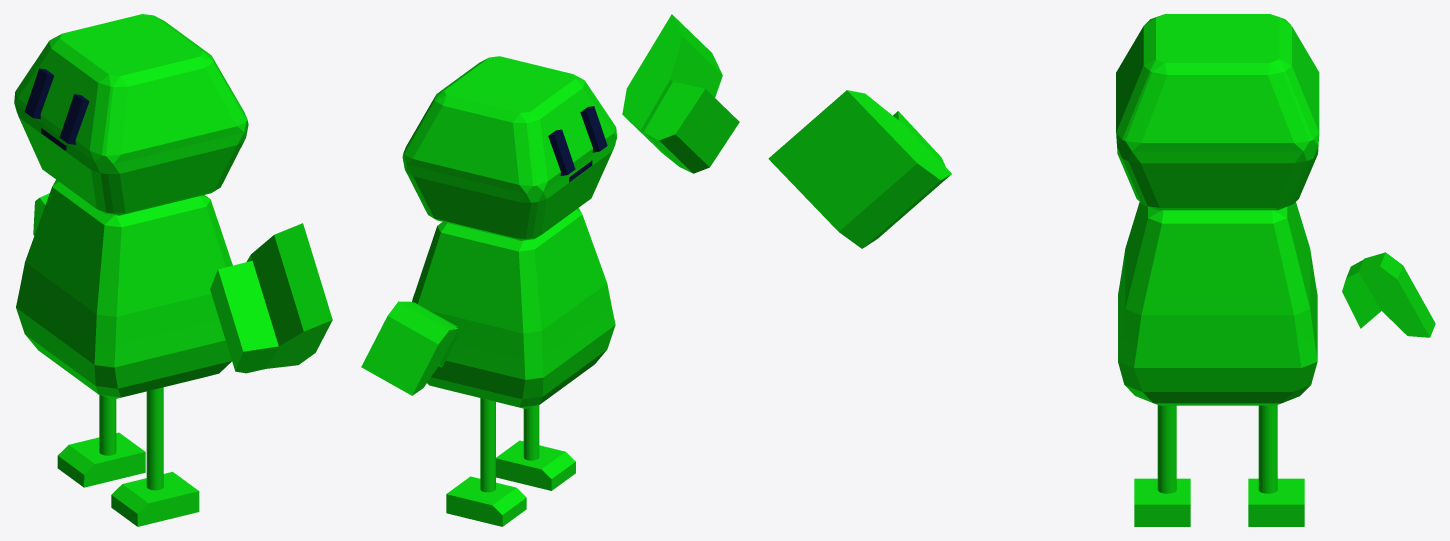
File: player_green_slap1.gltf
3 views of the same model, side by side, from view 1: azimuth 30°, elevation 25°; view 2: azimuth 150°, elevation 25°; view 3: azimuth 270°, elevation 25° (orthographic). The views are drawn at different scales.
Parts seen in each view (by area): view 1: body.005, head.005, hand right.006, foot right.005, foot left.005, leg right.005, leg left.005, Cube.020, Cube.021; view 2: body.005, head.005, hand right.006, hand left.006, foot left.005, foot right.005, leg left.005, leg right.005, Cube.020, Cube.021; view 3: body.005, head.005, hand right.006, hand left.006, foot left.005, foot right.005, leg right.005, leg left.005.
Part boxes in pixels (x1=…): body.005: x1=16, y1=179, x2=232, y2=399; head.005: x1=14, y1=14, x2=248, y2=215; hand right.006: x1=210, y1=223, x2=332, y2=373; foot right.005: x1=111, y1=471, x2=199, y2=526; foot left.005: x1=57, y1=432, x2=145, y2=487; leg right.005: x1=146, y1=387, x2=163, y2=490; leg left.005: x1=99, y1=395, x2=116, y2=455; Cube.020: x1=24, y1=68, x2=54, y2=119; Cube.021: x1=59, y1=94, x2=89, y2=144; body.005: x1=412, y1=208, x2=615, y2=408; head.005: x1=402, y1=56, x2=616, y2=240; hand right.006: x1=622, y1=14, x2=739, y2=173; hand left.006: x1=361, y1=301, x2=458, y2=395; foot left.005: x1=446, y1=476, x2=526, y2=526; foot right.005: x1=496, y1=440, x2=575, y2=490; leg left.005: x1=480, y1=398, x2=495, y2=492; leg right.005: x1=523, y1=405, x2=539, y2=460; Cube.020: x1=548, y1=129, x2=575, y2=175; Cube.021: x1=580, y1=106, x2=607, y2=152; body.005: x1=1118, y1=202, x2=1317, y2=405; head.005: x1=1116, y1=14, x2=1319, y2=210; hand right.006: x1=768, y1=90, x2=951, y2=248; hand left.006: x1=1342, y1=252, x2=1435, y2=337; foot left.005: x1=1248, y1=478, x2=1304, y2=526; foot right.005: x1=1134, y1=478, x2=1190, y2=526; leg right.005: x1=1157, y1=405, x2=1176, y2=493; leg left.005: x1=1258, y1=405, x2=1277, y2=493.
Size of the model in its own units: 1.82 by 4.76 by 6.08.
